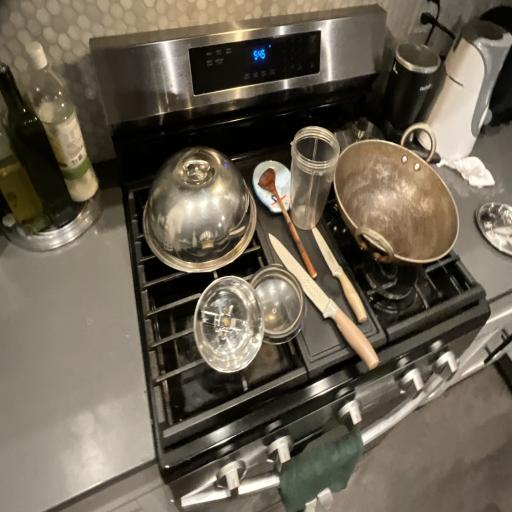Pan: (331, 112, 461, 276)
Stove: (94, 28, 512, 485)
knife: (258, 232, 378, 368), (301, 209, 380, 344)
